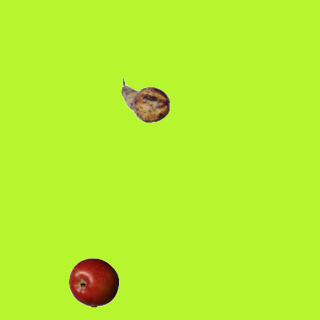Apple Braeburn: (68, 257, 118, 307)
Pear Abate: (120, 75, 170, 125)
